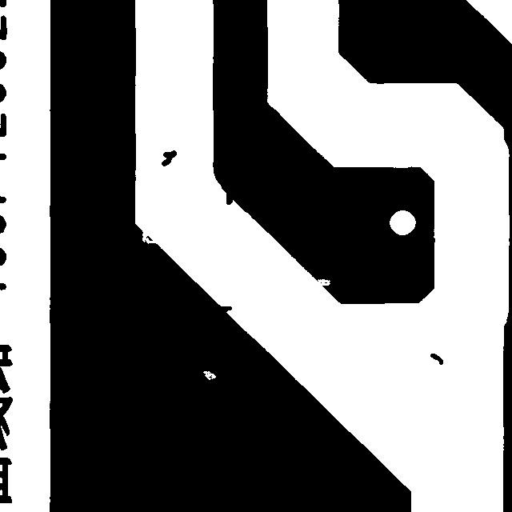copper: (154, 142, 184, 174), (422, 346, 450, 372)
mousebite: (134, 218, 163, 251), (310, 271, 338, 293)
pin-hole: (195, 363, 223, 387)
spur: (218, 185, 240, 212), (212, 298, 239, 319)
